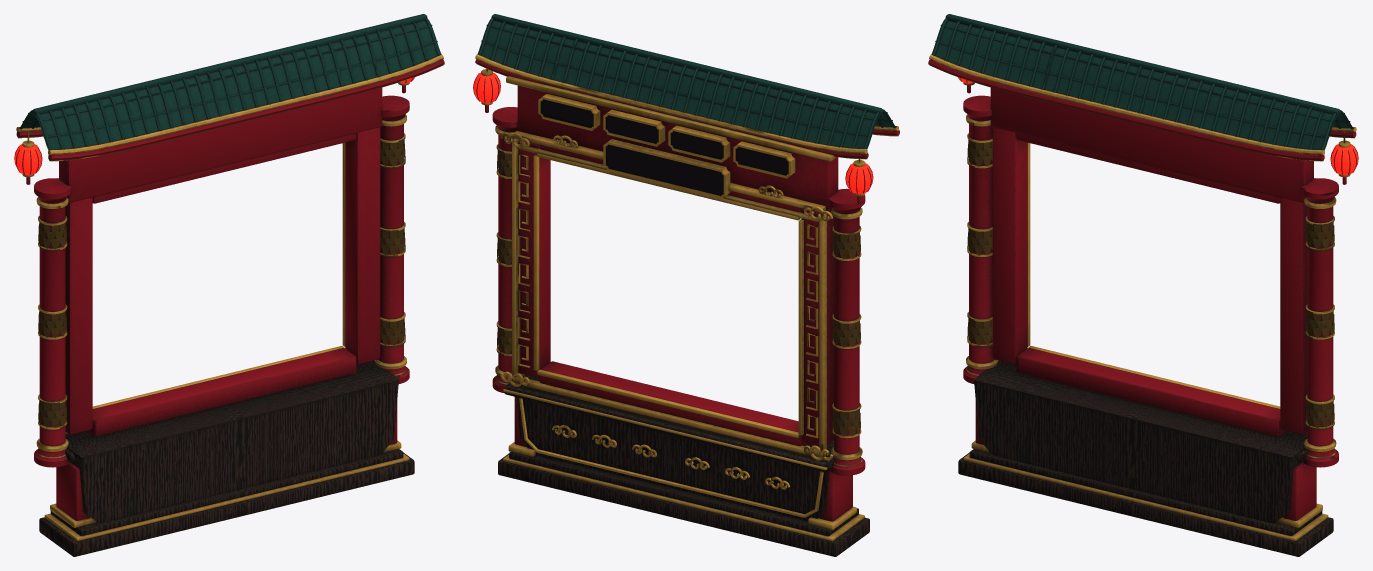
The picture shows the model from 3 angles, left to right: view 1: azimuth 30°, elevation 25°; view 2: azimuth 150°, elevation 25°; view 3: azimuth 330°, elevation 25°; orthographic projection.
Visible parts, largest first — view 1: Deep_vermilion_lacquer, Ebony_wood, Jade_ceramic, Brushed_imperial_gold, Red_paper_lantern_glow; view 2: Brushed_imperial_gold, Deep_vermilion_lacquer, Ebony_wood, Jade_ceramic, Flat_display_enamel, Red_paper_lantern_glow; view 3: Deep_vermilion_lacquer, Ebony_wood, Jade_ceramic, Brushed_imperial_gold, Red_paper_lantern_glow.
Part boxes in pixels (bbox=[...]): Deep_vermilion_lacquer: bbox=[14, 59, 444, 520]; Ebony_wood: bbox=[39, 360, 414, 556]; Jade_ceramic: bbox=[19, 14, 441, 150]; Brushed_imperial_gold: bbox=[16, 54, 443, 540]; Red_paper_lantern_glow: bbox=[14, 77, 414, 175]; Brushed_imperial_gold: bbox=[475, 54, 898, 541]; Deep_vermilion_lacquer: bbox=[473, 59, 899, 521]; Ebony_wood: bbox=[498, 374, 869, 556]; Jade_ceramic: bbox=[477, 14, 896, 150]; Flat_display_enamel: bbox=[541, 99, 788, 195]; Red_paper_lantern_glow: bbox=[473, 72, 872, 194]; Deep_vermilion_lacquer: bbox=[928, 59, 1358, 520]; Ebony_wood: bbox=[958, 360, 1333, 556]; Jade_ceramic: bbox=[931, 14, 1353, 150]; Brushed_imperial_gold: bbox=[929, 54, 1356, 540]; Red_paper_lantern_glow: bbox=[958, 77, 1358, 175].
Bounding box in the file's own units: 10.38 × 11 × 1.85.
Materials: 6 (5 with a texture image).
